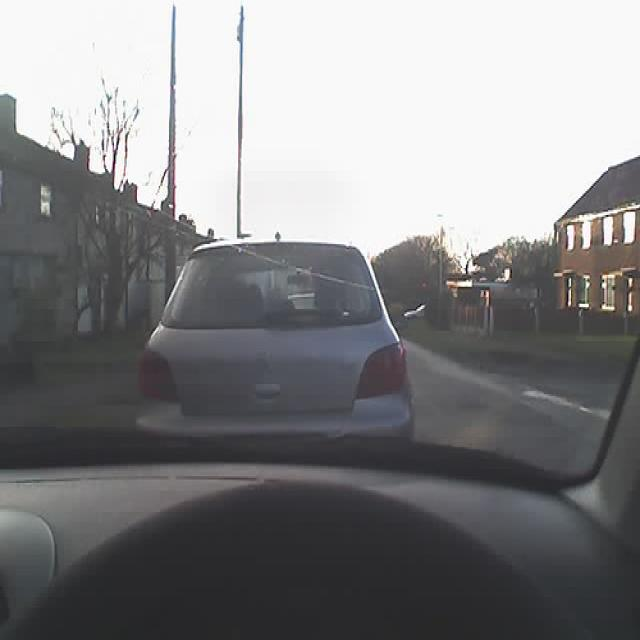car: (134, 237, 417, 442)
